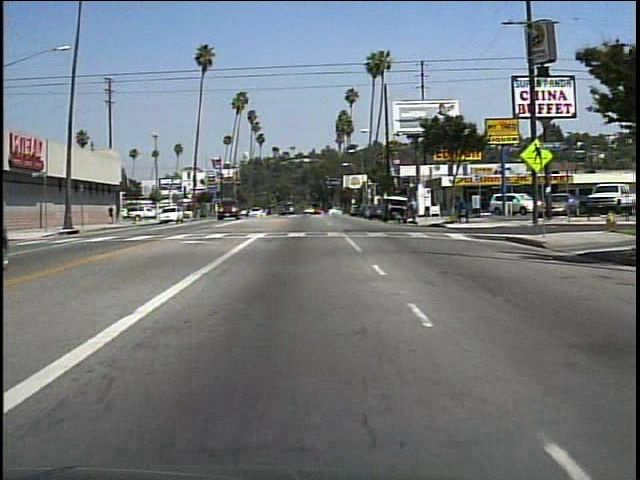person: (406, 195, 421, 226), (391, 209, 408, 228), (108, 200, 117, 225)
